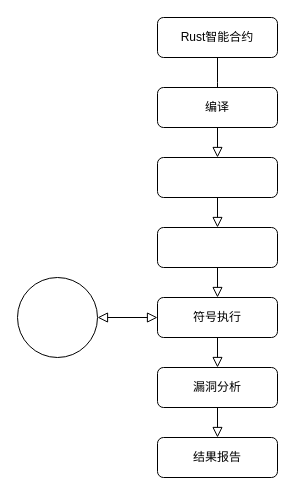
Image size: 295x495. Some labels were removed from this diagram. Each missing label, with the centre of its shape:
"Z3求解器" goes at [57,317].
"构建CFG" goes at [217,177].
"装载、实例化" goes at [217,247].
